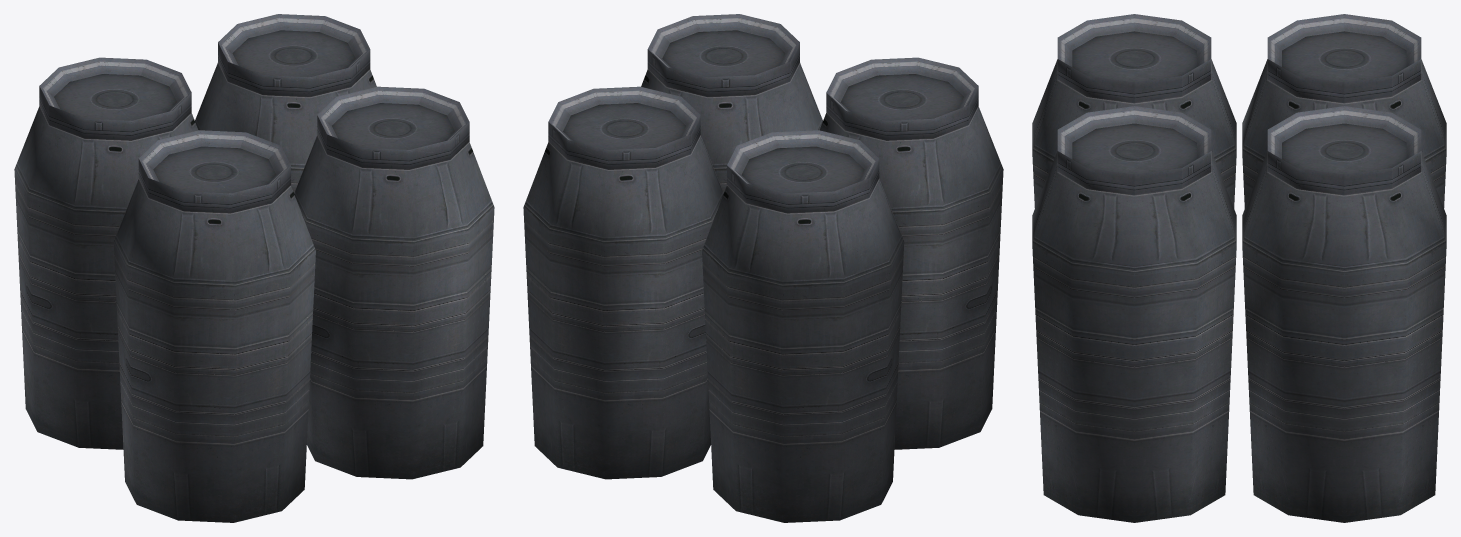
File: Prop_Qyt02_lod1.glb
3 renders of one model, left to right at view 1: azimuth 30°, elevation 25°; view 2: azimuth 150°, elevation 25°; view 3: azimuth 270°, elevation 25°, orthographic. The views are drawn at different scales.
Visible parts, largest first — view 1: xiutz_qyt_02_lod1; view 2: xiutz_qyt_02_lod1; view 3: xiutz_qyt_02_lod1.
Boxes of the visible parts, x1,y1,x2,y2 form: xiutz_qyt_02_lod1: [14, 14, 494, 522]; xiutz_qyt_02_lod1: [523, 14, 1003, 522]; xiutz_qyt_02_lod1: [1032, 14, 1446, 522].
Size of the model in its own units: 1.46 by 1.28 by 1.4.
Materials: 1 (1 with a texture image).
